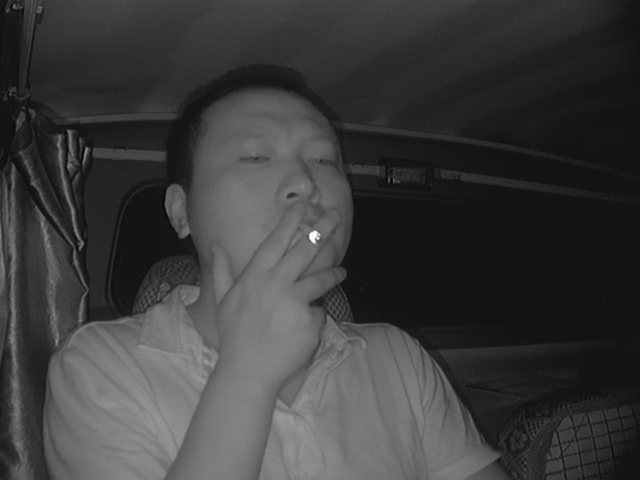hand: (255, 203, 343, 320)
